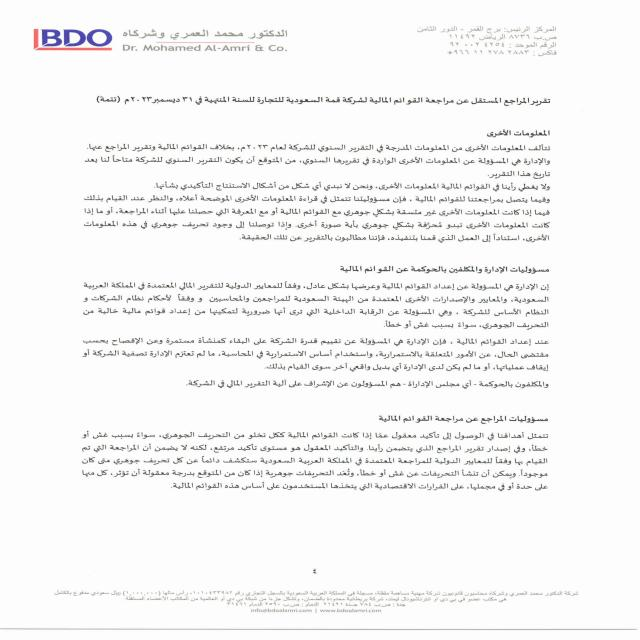auditor_report: (471, 92, 552, 116)
